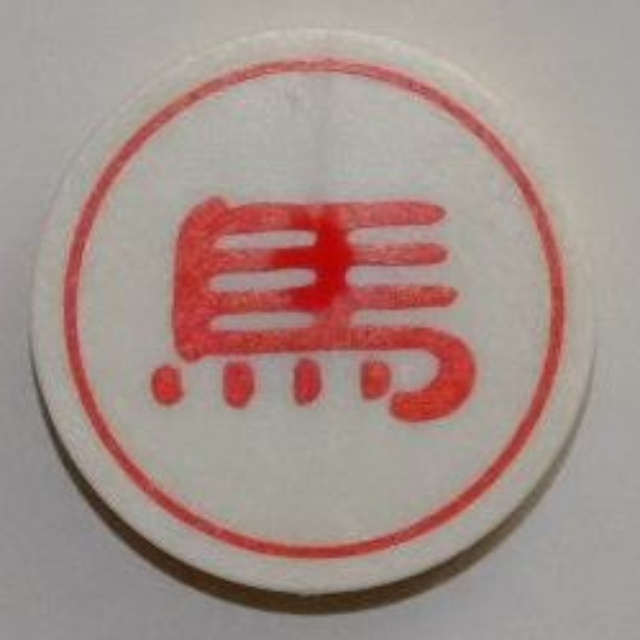red_ma: (40, 21, 611, 609)
